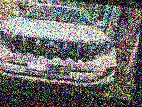car: (0, 0, 122, 91)
